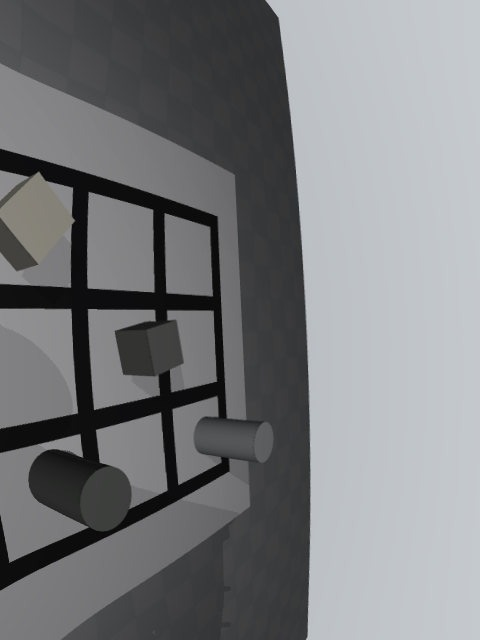can: (193, 417, 273, 463)
cube: (115, 320, 184, 376)
cylinder: (28, 449, 132, 532)
foam: (0, 172, 75, 272)
